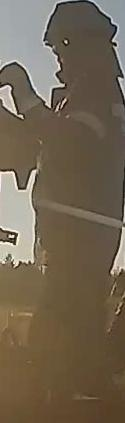gloves: (1, 61, 46, 113)
vest: (31, 86, 125, 278)
